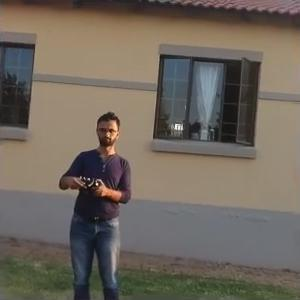follow: (51, 107, 134, 298)
